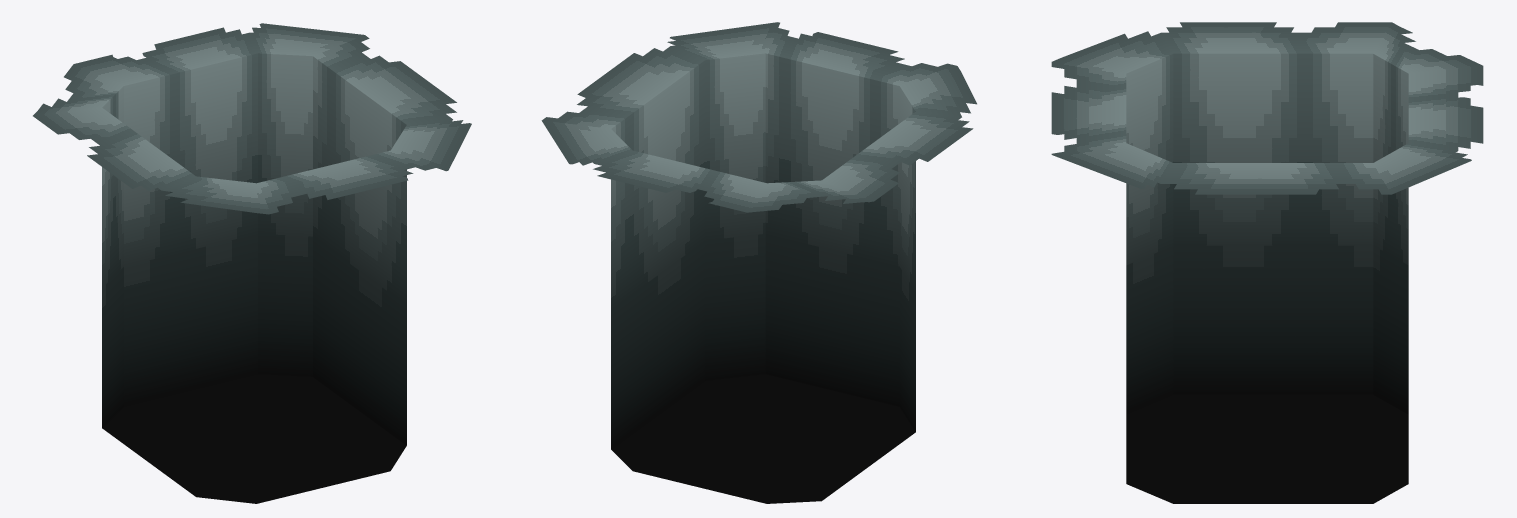
3 renders of one model, left to right at view 1: azimuth 30°, elevation 25°; view 2: azimuth 150°, elevation 25°; view 3: azimuth 270°, elevation 25°, orthographic. The views are drawn at different scales.
Size of the model in its own units: 2.38 by 2 by 2.5.
Materials: 1 (1 with a texture image).
